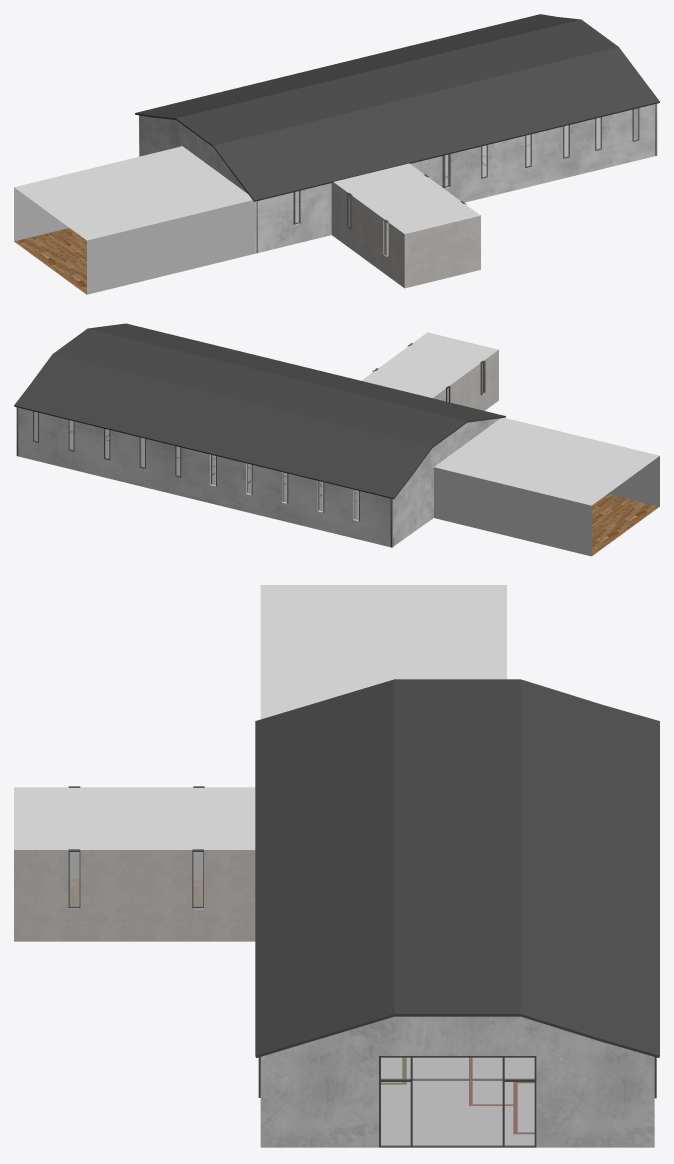
The picture shows the model from 3 angles, top to bottom: view 1: azimuth 30°, elevation 25°; view 2: azimuth 150°, elevation 25°; view 3: azimuth 270°, elevation 25°; orthographic projection. The views are drawn at different scales.
Visible parts, largest first — view 1: roof1, Plane, Plane.022, Plane.019, Plane.053, Plane.001, Plane.021, roof1.004; view 2: roof1, Plane.024, Plane.022, Plane.053, Plane.001, Plane.021, Plane, Plane.019, roof1.004; view 3: roof1, Plane.022, Plane.019, Plane.030, Plane.021, Plane.049, Plane, Plane.029, Plane.050.
Part boxes in pixels (x1,y1,x2,y2): roof1: (135,14,659,201); Plane: (139,104,657,253); Plane.022: (14,146,252,240); Plane.019: (329,174,480,288); Plane.053: (14,187,140,294); Plane.001: (67,200,255,281); Plane.021: (334,163,480,233); roof1.004: (141,115,247,193); roof1: (14,323,505,499); Plane.024: (18,407,392,547); Plane.022: (434,418,659,505); Plane.053: (541,456,659,556); Plane.001: (434,467,609,544); Plane.021: (361,332,498,397); Plane: (70,420,433,546); Plane.019: (372,343,498,410); roof1.004: (400,418,499,491); roof1: (255,679,659,1057); Plane.022: (260,585,506,719); Plane.019: (14,850,255,941); Plane.030: (260,1056,654,1147); Plane.021: (14,787,255,849); Plane.049: (381,1057,534,1145); Plane: (381,1057,534,1145); Plane.029: (264,1016,650,1055); Plane.050: (379,1056,536,1147).
Bounding box in the file's own units: 36.83 × 4.9 × 21.26.
Materials: 33 (9 with a texture image).
